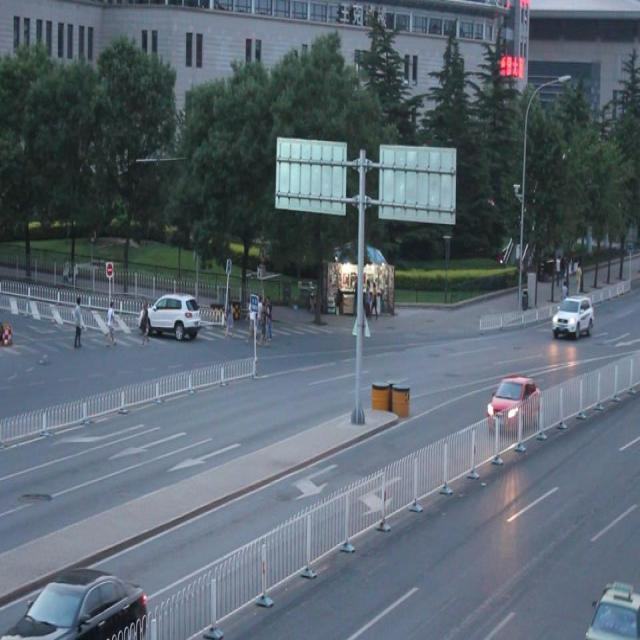car: (1, 564, 148, 640), (582, 583, 640, 640), (485, 374, 540, 432), (139, 292, 201, 339), (550, 294, 592, 335)
